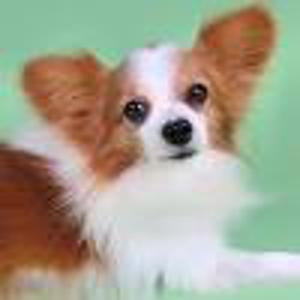yell: (0, 7, 298, 298)
